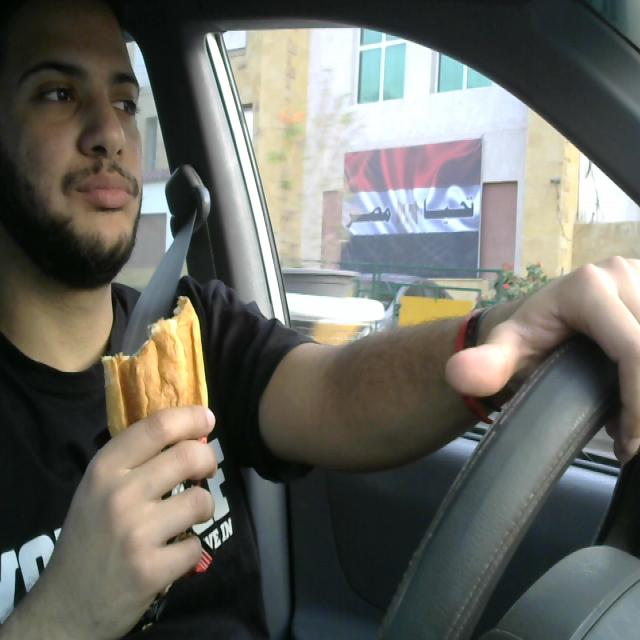eating: (94, 282, 214, 616)
